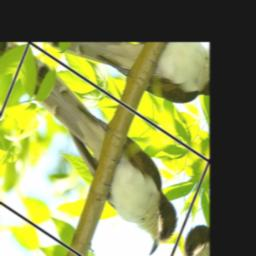Cuckoo: (0, 52, 202, 256)
